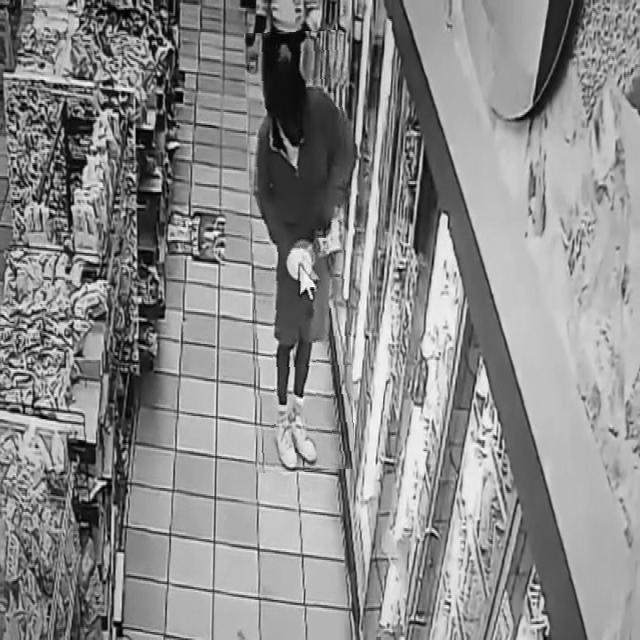Shoplifting: (248, 32, 352, 472)
